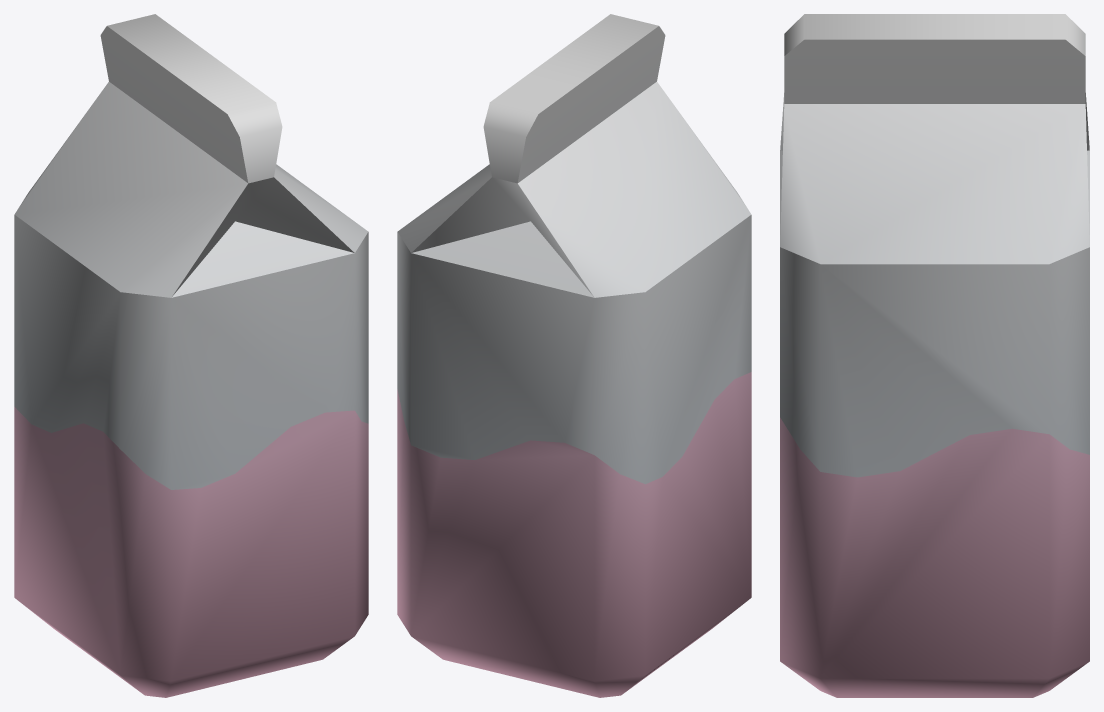
File: food-milk-carton-tall.glb
3 views of the same model, side by side, from view 1: azimuth 30°, elevation 25°; view 2: azimuth 150°, elevation 25°; view 3: azimuth 270°, elevation 25° (orthographic). The views are drawn at different scales.
Visible parts, largest first — view 1: food-milk-carton-tall; view 2: food-milk-carton-tall; view 3: food-milk-carton-tall.
Part boxes in pixels (x1,y1,x2,y2): food-milk-carton-tall: (14, 14, 368, 697); food-milk-carton-tall: (397, 14, 751, 697); food-milk-carton-tall: (780, 14, 1089, 697).
Bounding box in the file's own units: 0.1539 × 0.3415 × 0.1539.
